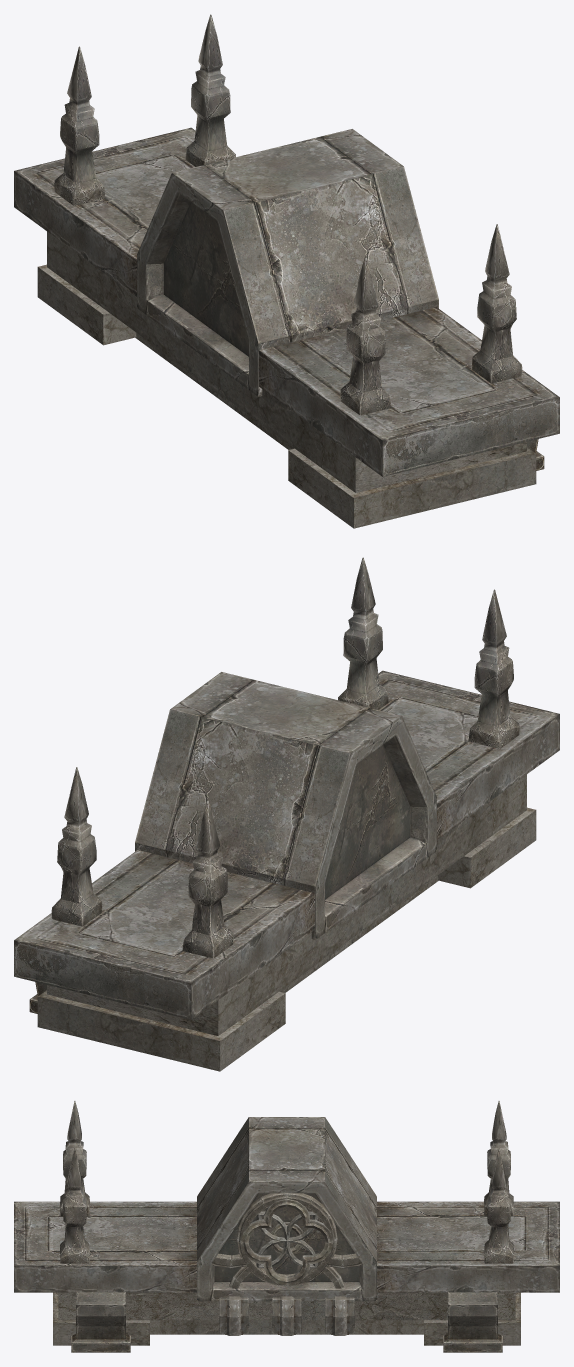
The model's file is bg_lut_lutomb_gate02c_sm_phs.FBX.
3 renders of one model, top to bottom at view 1: azimuth 30°, elevation 25°; view 2: azimuth 150°, elevation 25°; view 3: azimuth 270°, elevation 25°, orthographic. The views are drawn at different scales.
Visible parts, largest first — view 1: bg_lut_lutomb_gate02c_sm_phs; view 2: bg_lut_lutomb_gate02c_sm_phs; view 3: bg_lut_lutomb_gate02c_sm_phs.
Boxes of the visible parts, x1,y1,x2,y2 form: bg_lut_lutomb_gate02c_sm_phs: [14, 14, 559, 528]; bg_lut_lutomb_gate02c_sm_phs: [14, 557, 559, 1071]; bg_lut_lutomb_gate02c_sm_phs: [14, 1101, 559, 1352].
Size of the model in its own units: 150 by 171 by 446.
